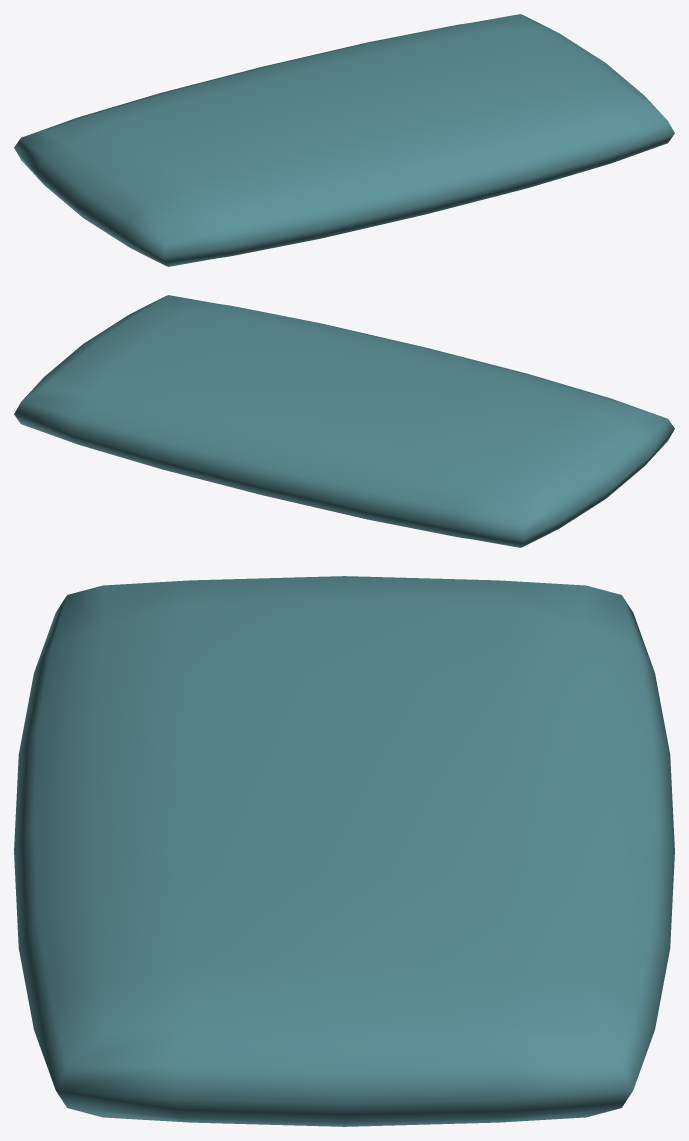
The model's file is pillow.fbx.
3 renders of one model, top to bottom at view 1: azimuth 30°, elevation 25°; view 2: azimuth 150°, elevation 25°; view 3: azimuth 270°, elevation 25°, orthographic. The views are drawn at different scales.
Visible parts, largest first — view 1: pillow; view 2: pillow; view 3: pillow.
Part boxes in pixels (x1,y1,x2,y2): pillow: (14,14,674,266); pillow: (14,295,674,547); pillow: (14,576,674,1126).
Bounding box in the file's own units: 63.31 × 35.1 × 9.16.
